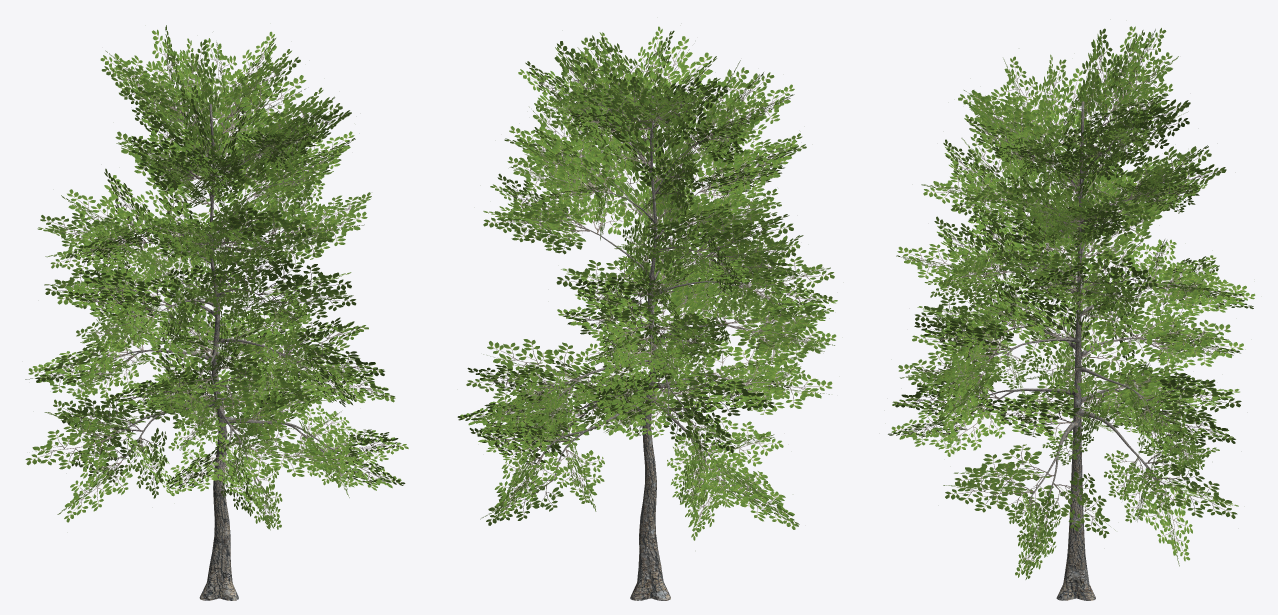
The model's file is tree2.glb.
3 views of the same model, side by side, from view 1: azimuth 30°, elevation 25°; view 2: azimuth 150°, elevation 25°; view 3: azimuth 270°, elevation 25° (orthographic). The views are drawn at different scales.
Visible parts, largest first — view 1: _2_TP23_Leaf_0, _2_TP23_Trunk_0; view 2: _2_TP23_Leaf_0, _2_TP23_Trunk_0; view 3: _2_TP23_Leaf_0, _2_TP23_Trunk_0.
Boxes of the visible parts, x1,y1,x2,y2 form: _2_TP23_Leaf_0: [25, 25, 408, 530]; _2_TP23_Trunk_0: [101, 103, 338, 600]; _2_TP23_Leaf_0: [457, 26, 837, 540]; _2_TP23_Trunk_0: [536, 92, 765, 600]; _2_TP23_Leaf_0: [888, 26, 1255, 579]; _2_TP23_Trunk_0: [974, 101, 1167, 600].
Bounding box in the file's own units: 21.99 × 33.61 × 21.35.
2 materials, 2 textured.
